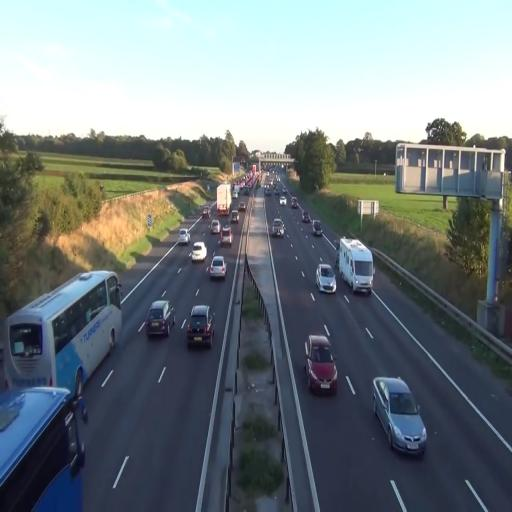vehicle: (1, 270, 122, 398), (0, 381, 86, 509), (372, 375, 428, 457), (337, 237, 375, 296), (338, 235, 374, 295), (304, 336, 338, 395), (186, 304, 215, 348), (146, 299, 174, 340), (316, 262, 338, 292), (206, 254, 227, 281), (190, 240, 207, 262), (270, 217, 286, 238), (177, 228, 191, 246), (312, 220, 323, 237)
